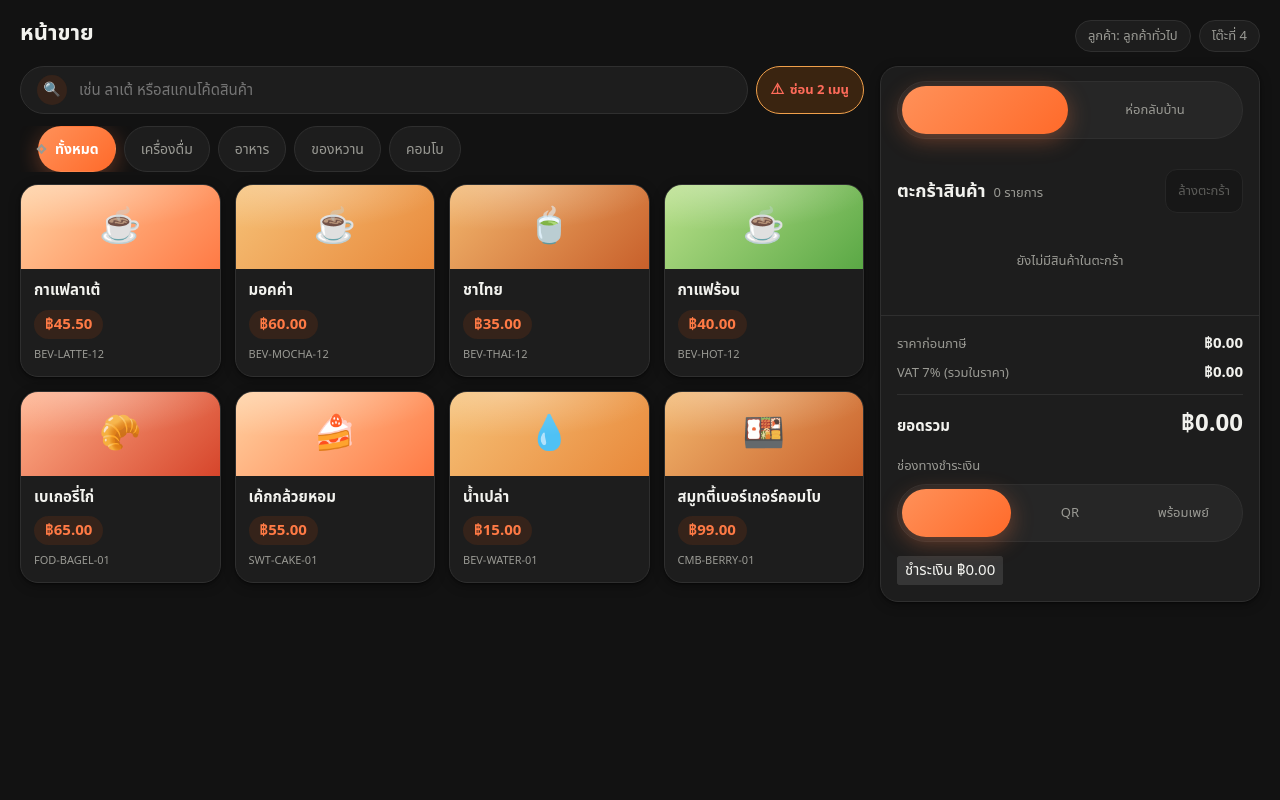
Test: SalesTerminalView — a click lands in the basket › turns one tap on a tile into one line at exactly the tile’s price
Click the button with aria-label "เพิ่ม กาแฟลาเต้" at (120, 280), box [20, 184, 220, 376]
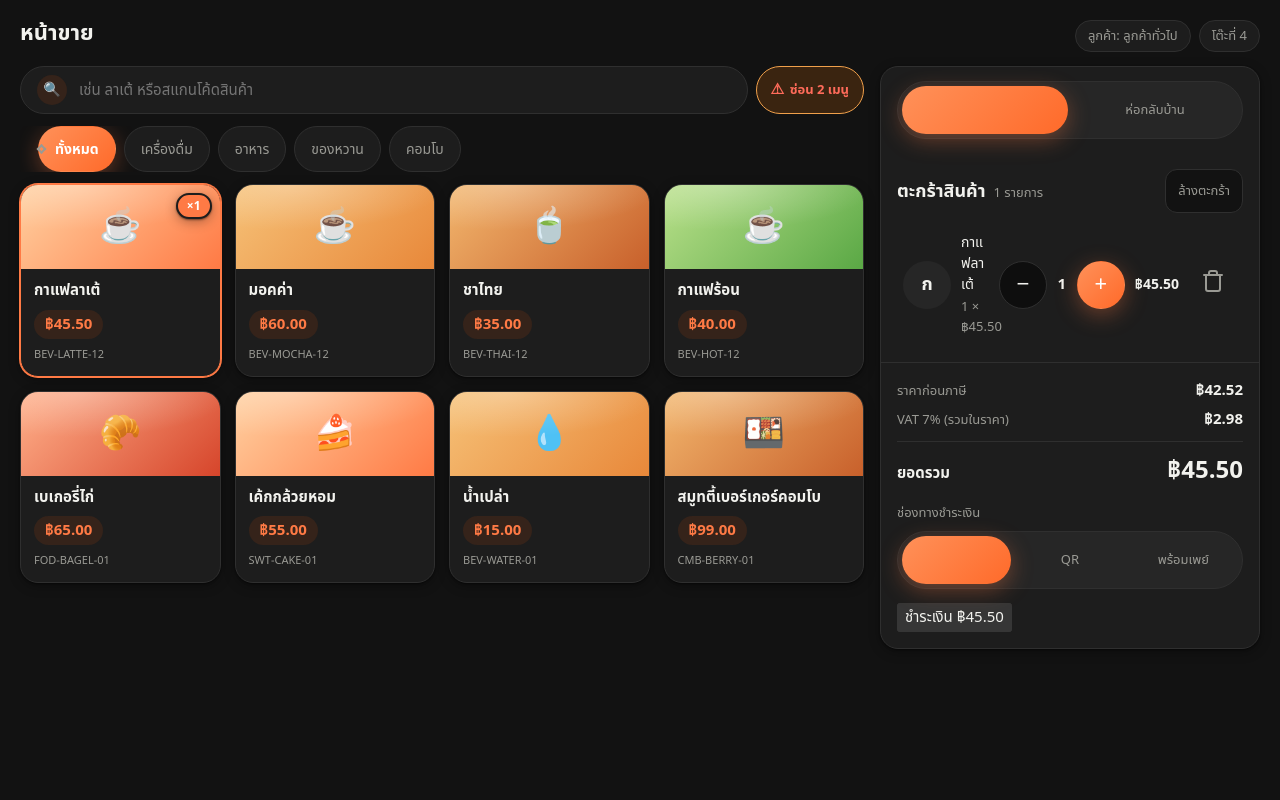
Expected: the list item "ก กาแฟลาเต้ 1 × ฿45.50 − 1 + ฿45.50" is shown, [897, 223, 1243, 346]
